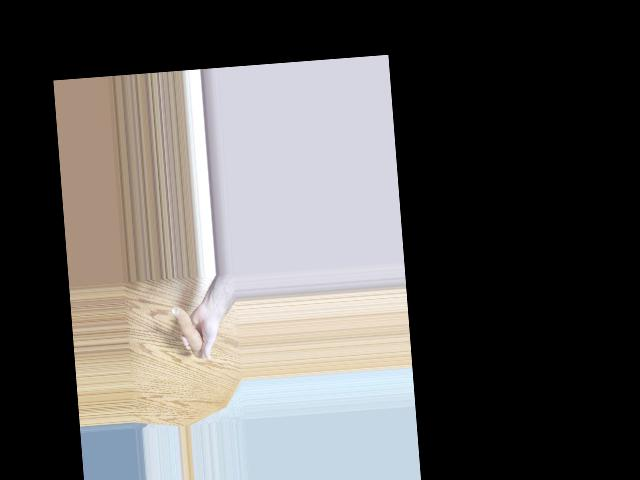sweet_potato: (171, 302, 204, 358)
